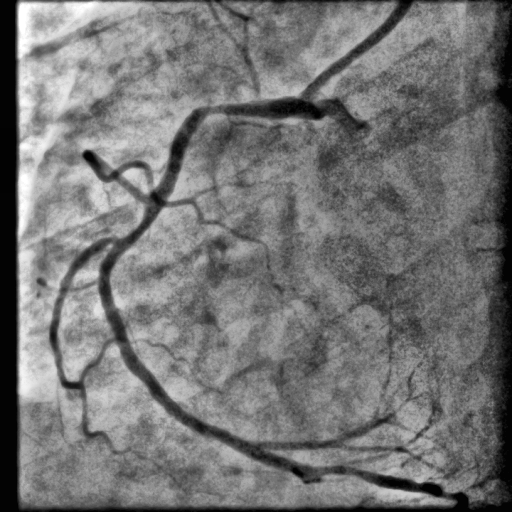pborca: (259, 413, 392, 451)
pda: (248, 451, 470, 511)
rca: (98, 96, 322, 456)
